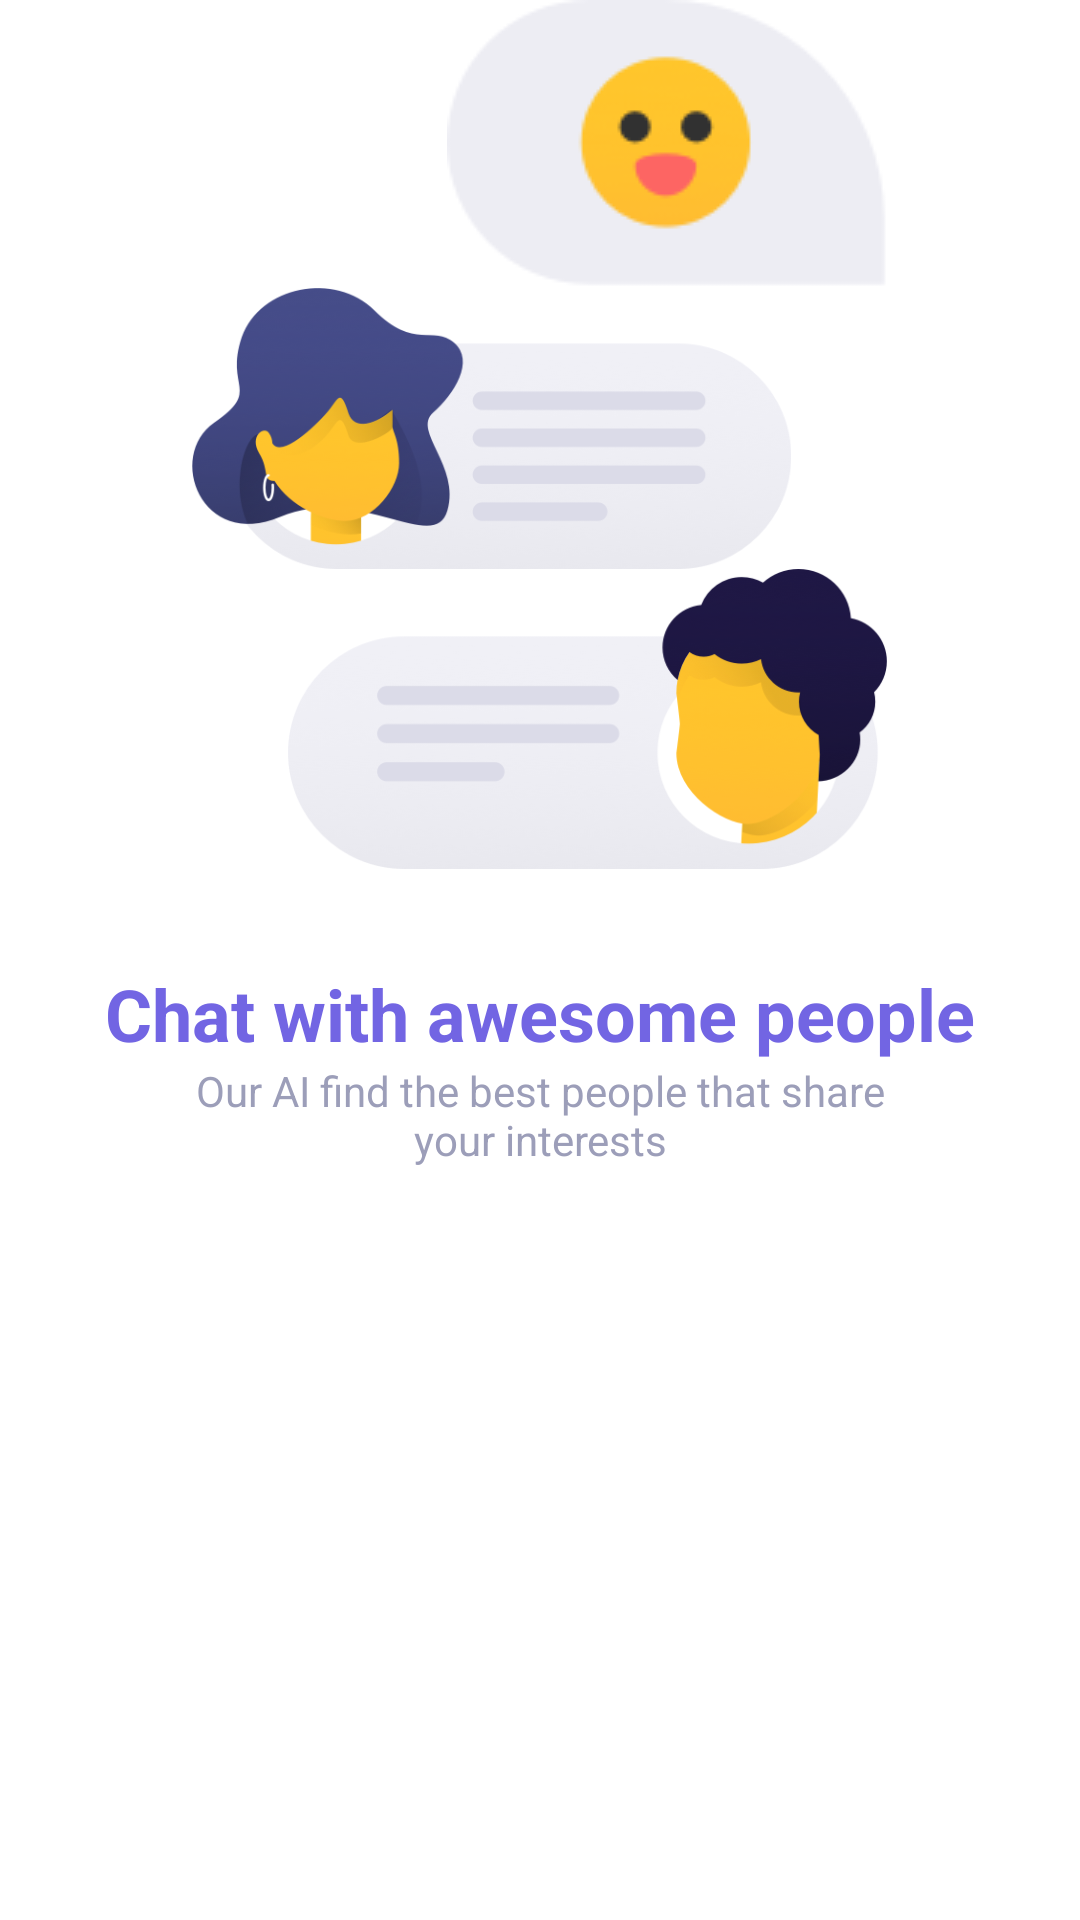

Icons on this 1080 × 1920 Android screen, each with its box as [x1, y1, x2, y2]:
smiley onboarding: [578, 56, 751, 229]
